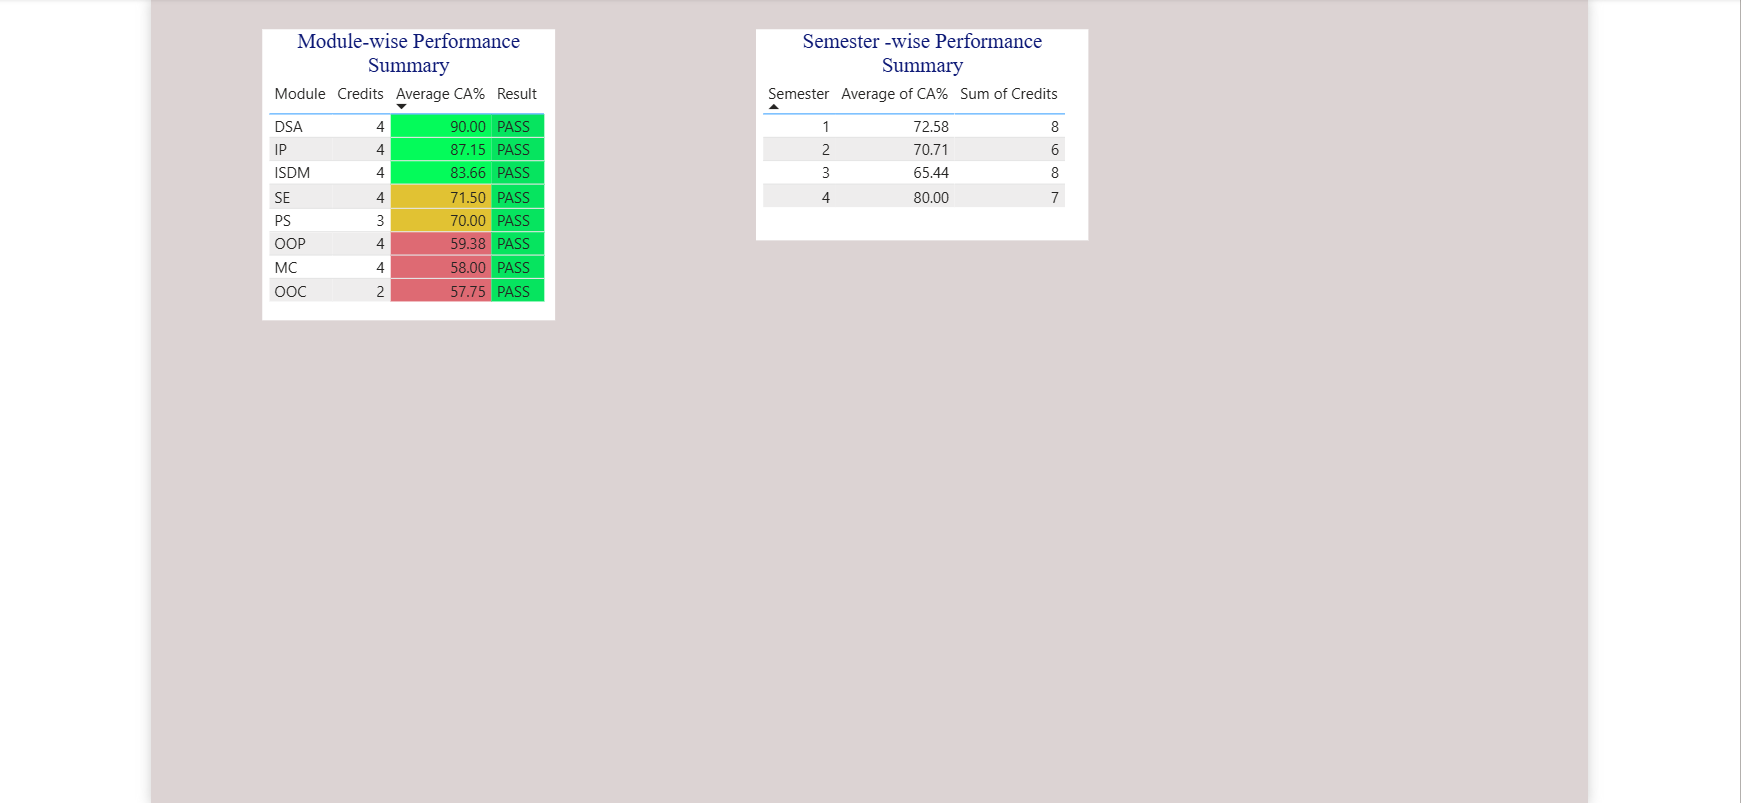

This screenshot's page, from the dashboard's own definition file:
{"tool":"powerbi","page":{"name":"Module Performance","canvas":[1280,720],"ordinal":1},"visuals":[{"type":"tableEx","title":"Module-wise Performance Summary","fields":{"Values":["my_academic_performance.Module","Sum(my_academic_performance.Credits)","Avg(my_academic_performance.CA%)","my_academic_performance.Result"]},"box":[98.8,27.4,260.7,259.3],"z":0},{"type":"tableEx","title":"Semester -wise Performance Summary","fields":{"Values":["my_academic_performance.Semester","Avg(my_academic_performance.CA%)","Sum(my_academic_performance.Credits)"]},"box":[539.3,27.4,296.4,188],"z":1}]}

Visuals, with their boxes on the page's 1280x720 design canvas (x1, y1, x2, y2). These are canvas units, not pixel positions in the 1741x803 screenshot, which may show the page scaled, cropped or inside an application window:
"Module-wise Performance Summary" tableEx: [left=99, top=27, right=360, bottom=287]
"Semester -wise Performance Summary" tableEx: [left=539, top=27, right=836, bottom=215]
